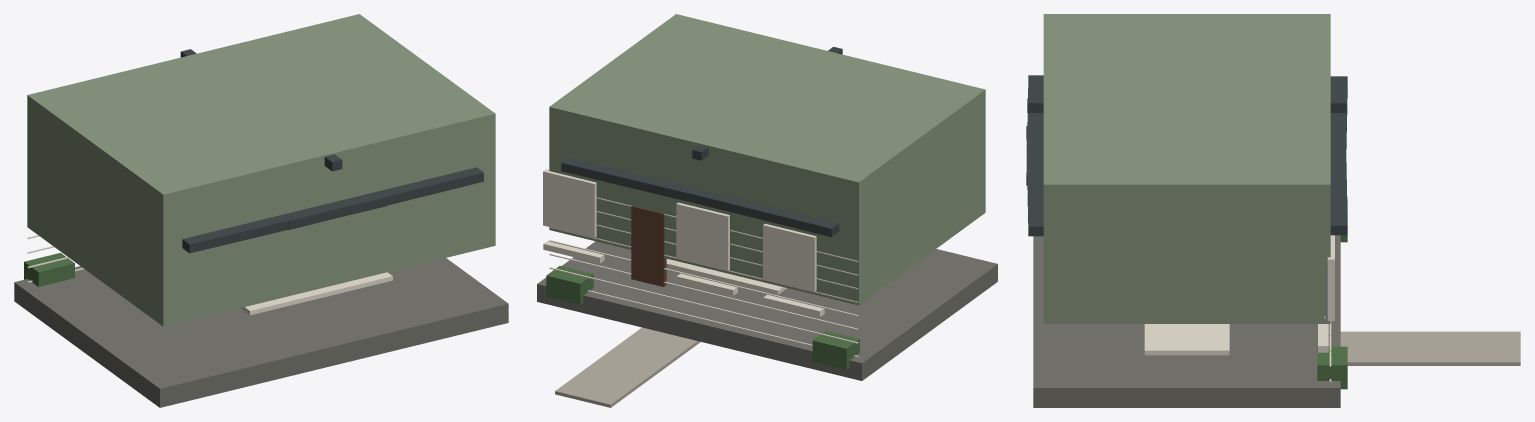
File: sage_rental_bungalow.glb
The picture shows the model from 3 angles, left to right: view 1: azimuth 30°, elevation 25°; view 2: azimuth 150°, elevation 25°; view 3: azimuth 270°, elevation 25°; orthographic projection. The views are drawn at different scales.
Parts seen in each view (by area): view 1: sage_rental_bungalow_body, sage_rental_bungalow_foundation, sage_rental_bungalow_roof_left, sage_rental_bungalow_roof_right, sage_rental_bungalow_porch_floor, sage_rental_bungalow_foundation_shrub; view 2: sage_rental_bungalow_body, sage_rental_bungalow_foundation, sage_rental_bungalow_walkway, sage_rental_bungalow_window_frame.002, sage_rental_bungalow_window_frame, sage_rental_bungalow_window_frame.001, sage_rental_bungalow_roof_left, sage_rental_bungalow_front_door, sage_rental_bungalow_roof_right, sage_rental_bungalow_foundation_shrub, sage_rental_bungalow_foundation_shrub.001, sage_rental_bungalow_porch_floor (+8 smaller); view 3: sage_rental_bungalow_body, sage_rental_bungalow_foundation, sage_rental_bungalow_walkway, sage_rental_bungalow_roof_right, sage_rental_bungalow_porch_floor, sage_rental_bungalow_roof_left, sage_rental_bungalow_foundation_shrub.001, sage_rental_bungalow_window_frame.002, sage_rental_bungalow_ridge_cap.
Boxes of the visible parts, x1,y1,x2,y2 form: sage_rental_bungalow_body: (27, 14, 495, 326); sage_rental_bungalow_foundation: (14, 258, 508, 407); sage_rental_bungalow_roof_left: (182, 191, 386, 253); sage_rental_bungalow_roof_right: (282, 167, 483, 229); sage_rental_bungalow_porch_floor: (240, 272, 392, 315); sage_rental_bungalow_foundation_shrub: (24, 253, 74, 286); sage_rental_bungalow_body: (549, 14, 985, 305); sage_rental_bungalow_foundation: (537, 241, 997, 380); sage_rental_bungalow_walkway: (555, 327, 700, 407); sage_rental_bungalow_window_frame.002: (543, 169, 596, 237); sage_rental_bungalow_window_frame: (763, 223, 816, 291); sage_rental_bungalow_window_frame.001: (676, 202, 729, 270); sage_rental_bungalow_roof_left: (650, 179, 839, 237); sage_rental_bungalow_front_door: (631, 205, 666, 286); sage_rental_bungalow_roof_right: (561, 157, 747, 203); sage_rental_bungalow_foundation_shrub: (812, 331, 859, 369); sage_rental_bungalow_foundation_shrub.001: (546, 266, 593, 304); sage_rental_bungalow_porch_floor: (666, 259, 786, 294); sage_rental_bungalow_body: (1043, 14, 1330, 323); sage_rental_bungalow_foundation: (1033, 235, 1340, 407); sage_rental_bungalow_walkway: (1340, 331, 1520, 365); sage_rental_bungalow_roof_right: (1026, 125, 1347, 236); sage_rental_bungalow_porch_floor: (1144, 324, 1229, 355); sage_rental_bungalow_roof_left: (1026, 75, 1347, 185); sage_rental_bungalow_foundation_shrub.001: (1317, 346, 1347, 389); sage_rental_bungalow_window_frame.002: (1327, 235, 1334, 320); sage_rental_bungalow_ridge_cap: (1027, 98, 1346, 112).
Bounding box in the file's own units: 10.5 × 6.3 × 12.22.
